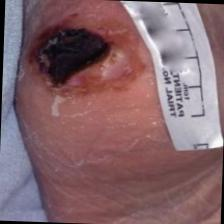pressure-wound: (13, 1, 138, 109)
